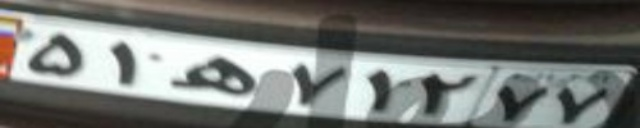1: (105, 40, 137, 85), (366, 69, 392, 113)
2: (414, 72, 476, 114)
5: (24, 30, 85, 77)
7: (291, 64, 345, 105), (555, 82, 607, 123), (493, 83, 548, 120)
he: (168, 52, 256, 94)
